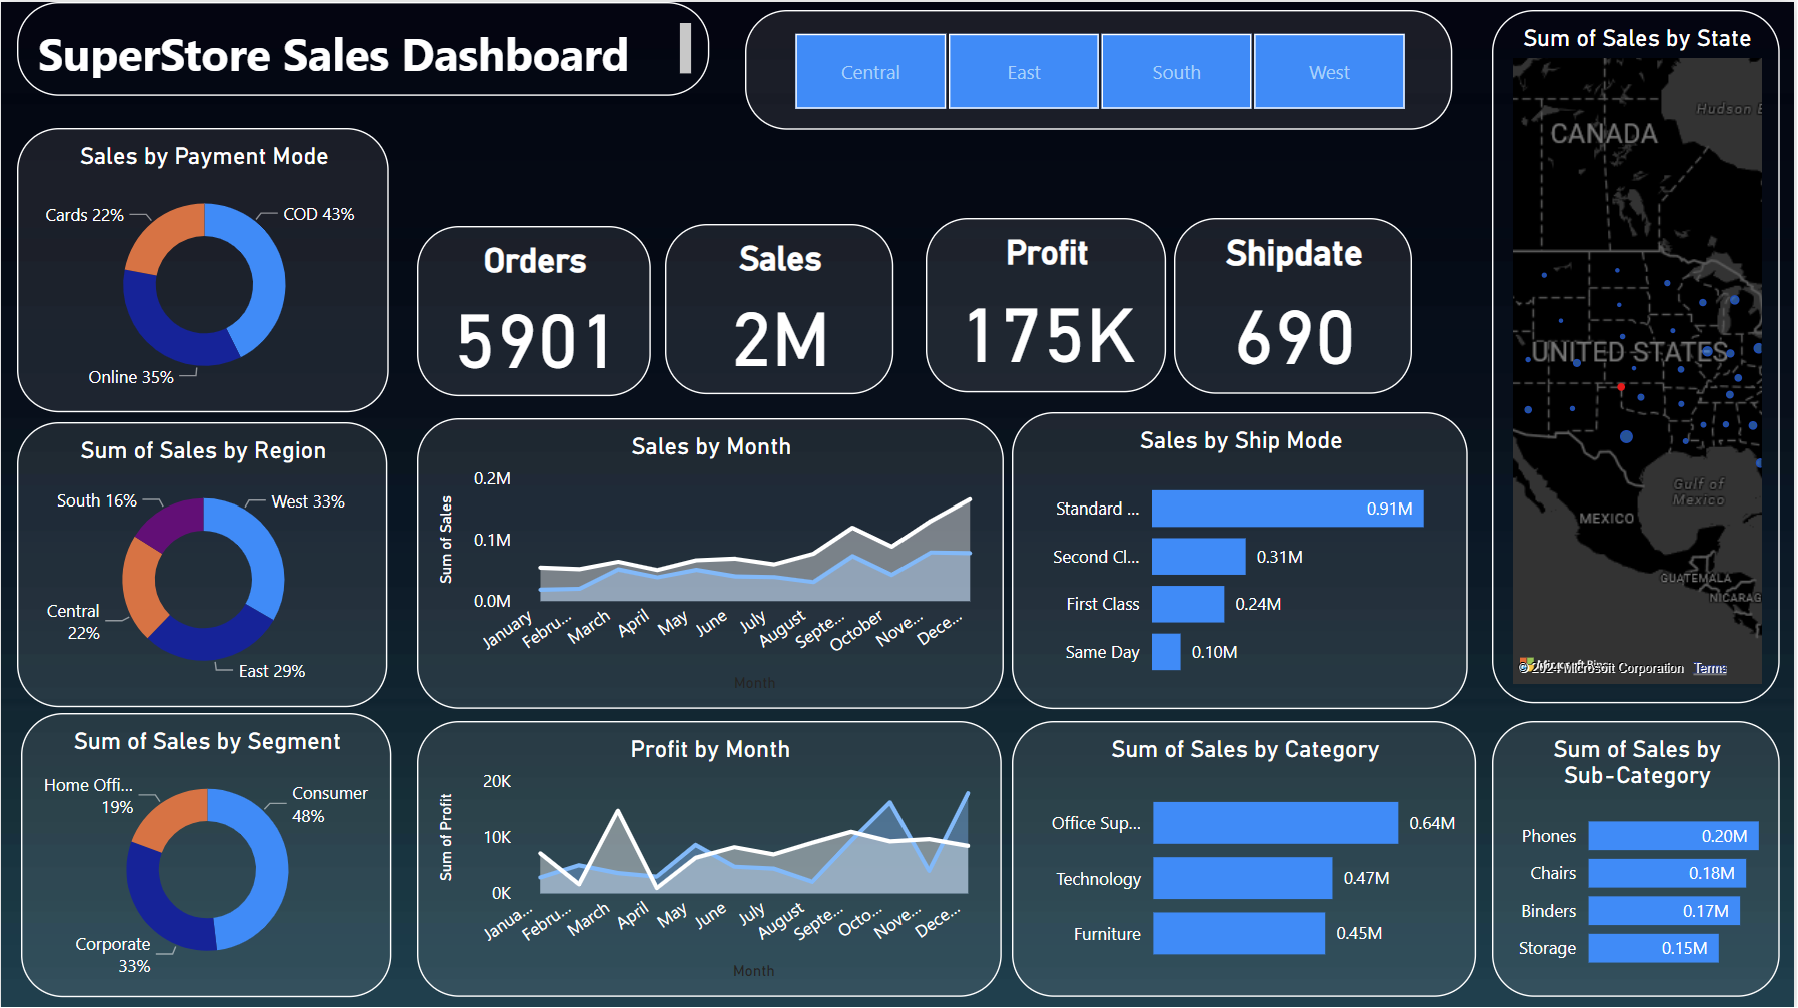

The page's visual inventory and layout, read from the dashboard file:
{"tool":"powerbi","page":{"name":"Page 1","canvas":[1280,720],"ordinal":0},"visuals":[{"type":"textbox","box":[11.4,0,494.3,67.1],"z":0},{"type":"donutChart","title":"Sales by Payment Mode","fields":{"Category":["SuperStore_Sales_Dataset.Payment Mode"],"Y":["Sum(SuperStore_Sales_Dataset.Sales)"]},"box":[11.4,90,265.7,202.9],"z":1000},{"type":"donutChart","fields":{"Y":["Sum(SuperStore_Sales_Dataset.Sales)"],"Category":["SuperStore_Sales_Dataset.Region"]},"box":[11.4,300,264.3,202.9],"z":2000},{"type":"donutChart","fields":{"Category":["SuperStore_Sales_Dataset.Segment"],"Y":["Sum(SuperStore_Sales_Dataset.Sales)"]},"box":[14.3,507.1,264.3,202.9],"z":3000},{"type":"areaChart","title":"Profit by Month","fields":{"Y":["Sum(SuperStore_Sales_Dataset.Profit)"],"Category":["SuperStore_Sales_Dataset.Order Date.Variation.Date Hierarchy.Month"],"Series":["SuperStore_Sales_Dataset.Order Date.Variation.Date Hierarchy.Year"]},"box":[297.1,512.9,417.1,197.1],"z":4000},{"type":"areaChart","title":"Sales by Month","fields":{"Y":["Sum(SuperStore_Sales_Dataset.Sales)"],"Category":["SuperStore_Sales_Dataset.Order Date.Variation.Date Hierarchy.Month"],"Series":["SuperStore_Sales_Dataset.Order Date.Variation.Date Hierarchy.Year"]},"box":[297.1,297.1,418.6,207.1],"z":5000},{"type":"barChart","title":"Sales by Ship Mode","fields":{"Y":["Sum(SuperStore_Sales_Dataset.Sales)"],"Category":["SuperStore_Sales_Dataset.Ship Mode"]},"box":[721.4,292.9,325.7,211.4],"z":6000},{"type":"barChart","fields":{"Y":["Sum(SuperStore_Sales_Dataset.Sales)"],"Category":["SuperStore_Sales_Dataset.Category"]},"box":[721.4,512.9,331.4,197.1],"z":7000},{"type":"barChart","fields":{"Y":["Sum(SuperStore_Sales_Dataset.Sales)"],"Category":["SuperStore_Sales_Dataset.Sub-Category"]},"box":[1064.3,512.9,205.7,197.1],"z":8000},{"type":"card","title":"Orders","fields":{"Values":["CountNonNull(SuperStore_Sales_Dataset.Order ID)"]},"box":[297.1,160,167.1,121.4],"z":9000},{"type":"card","title":"Sales","fields":{"Values":["Sum(SuperStore_Sales_Dataset.Sales)"]},"box":[474.3,158.6,162.9,121.4],"z":10000},{"type":"card","title":"Profit","fields":{"Values":["Sum(SuperStore_Sales_Dataset.Profit)"]},"box":[660,154.3,171.4,124.3],"z":11000},{"type":"card","title":"Shipdate","fields":{"Values":["Count(SuperStore_Sales_Dataset.Ship Date)"]},"box":[837.1,154.3,170,125.7],"z":12000},{"type":"slicer","fields":{"Values":["SuperStore_Sales_Dataset.Region"]},"box":[531.4,5.7,504.3,85.7],"z":13000},{"type":"map","fields":{"Category":["SuperStore_Sales_Dataset.State","SuperStore_Sales_Dataset.Profit","SuperStore_Sales_Dataset.Sales"],"Size":["Sum(SuperStore_Sales_Dataset.Sales)"]},"box":[1064.3,5.7,205.7,494.3],"z":14000}]}

Visuals, with their boxes in screenshot pixels (x1, y1, x2, y2), scaled from the page's 1280x720 canvas onto the 1798x1008 screenshot:
textbox: locate(16, 0, 710, 94)
"Sales by Payment Mode" donutChart: locate(16, 126, 389, 410)
donutChart - Sum(SuperStore_Sales_Dataset.Sales) x SuperStore_Sales_Dataset.Region: locate(16, 420, 387, 704)
donutChart - SuperStore_Sales_Dataset.Segment x Sum(SuperStore_Sales_Dataset.Sales): locate(20, 710, 391, 994)
"Profit by Month" areaChart: locate(417, 718, 1003, 994)
"Sales by Month" areaChart: locate(417, 416, 1005, 706)
"Sales by Ship Mode" barChart: locate(1013, 410, 1471, 706)
barChart - Sum(SuperStore_Sales_Dataset.Sales) x SuperStore_Sales_Dataset.Category: locate(1013, 718, 1479, 994)
barChart - Sum(SuperStore_Sales_Dataset.Sales) x SuperStore_Sales_Dataset.Sub-Category: locate(1495, 718, 1784, 994)
"Orders" card: locate(417, 224, 652, 394)
"Sales" card: locate(666, 222, 895, 392)
"Profit" card: locate(927, 216, 1168, 390)
"Shipdate" card: locate(1176, 216, 1415, 392)
slicer - SuperStore_Sales_Dataset.Region: locate(746, 8, 1455, 128)
map - SuperStore_Sales_Dataset.State x SuperStore_Sales_Dataset.Profit: locate(1495, 8, 1784, 700)
